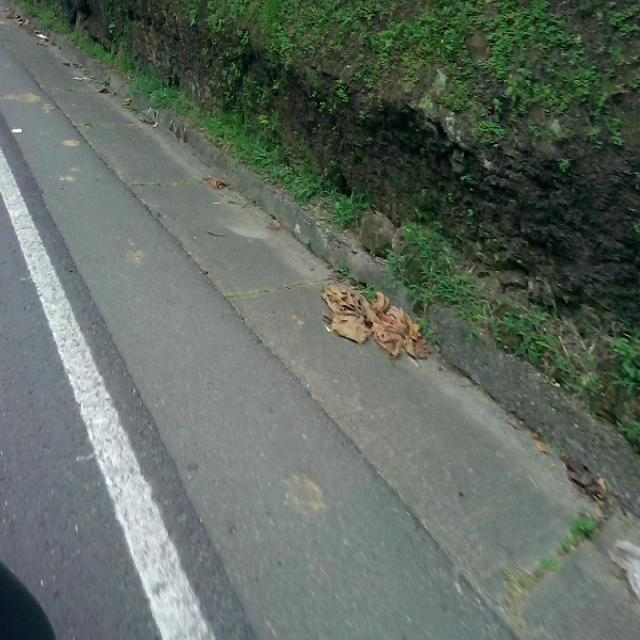DITCH: (1, 3, 638, 638), (1, 72, 638, 638), (1, 92, 638, 638)
